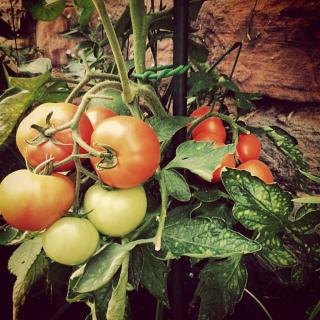tomato: (0, 148, 75, 230), (15, 102, 93, 174), (84, 179, 148, 237), (41, 209, 98, 271), (84, 105, 120, 170), (197, 132, 236, 179), (185, 104, 226, 135), (235, 158, 272, 184), (233, 133, 263, 158)
